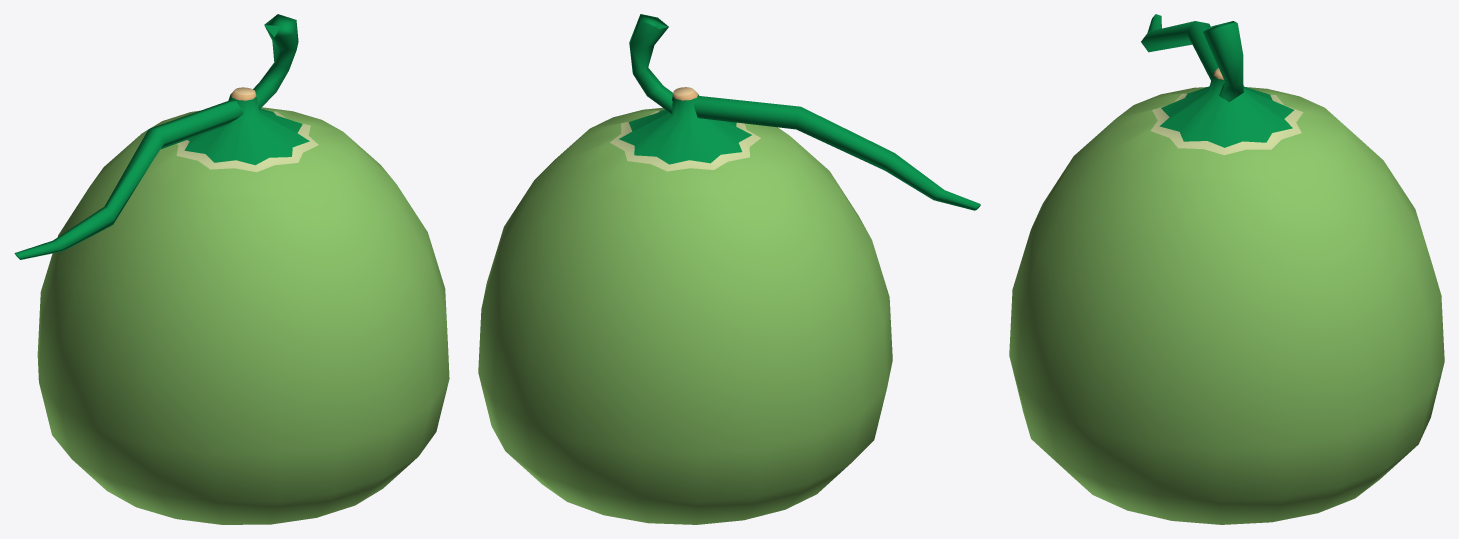
File: SM_Fruits_Coconut_1.fbx
The picture shows the model from 3 angles, left to right: view 1: azimuth 30°, elevation 25°; view 2: azimuth 150°, elevation 25°; view 3: azimuth 270°, elevation 25°; orthographic projection. The views are drawn at different scales.
Visible parts, largest first — view 1: SM_Fruits_Coconut_1; view 2: SM_Fruits_Coconut_1; view 3: SM_Fruits_Coconut_1.
Boxes of the visible parts, x1=… form: SM_Fruits_Coconut_1: x1=14, y1=14, x2=449, y2=524; SM_Fruits_Coconut_1: x1=478, y1=14, x2=980, y2=524; SM_Fruits_Coconut_1: x1=1009, y1=14, x2=1444, y2=524.
Bounding box in the file's own units: 40.48 × 40.11 × 33.01.
